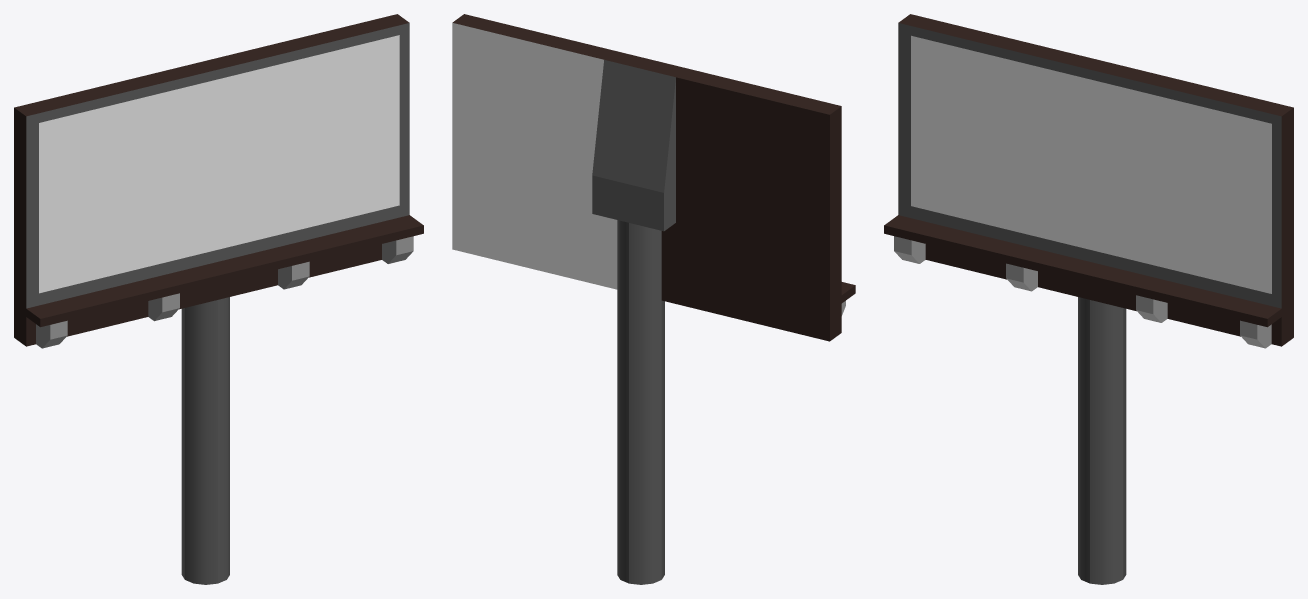
The model's file is billboard.fbx.
3 renders of one model, left to right at view 1: azimuth 30°, elevation 25°; view 2: azimuth 150°, elevation 25°; view 3: azimuth 330°, elevation 25°, orthographic.
Parts seen in each view (by area): view 1: Model; view 2: Model; view 3: Model.
Part boxes in pixels (left/top/right/bottom): Model: left=14, top=14, right=423, bottom=584; Model: left=452, top=14, right=855, bottom=584; Model: left=884, top=14, right=1293, bottom=584.
Bounding box in the file's own units: 170 × 218 × 29.51.
